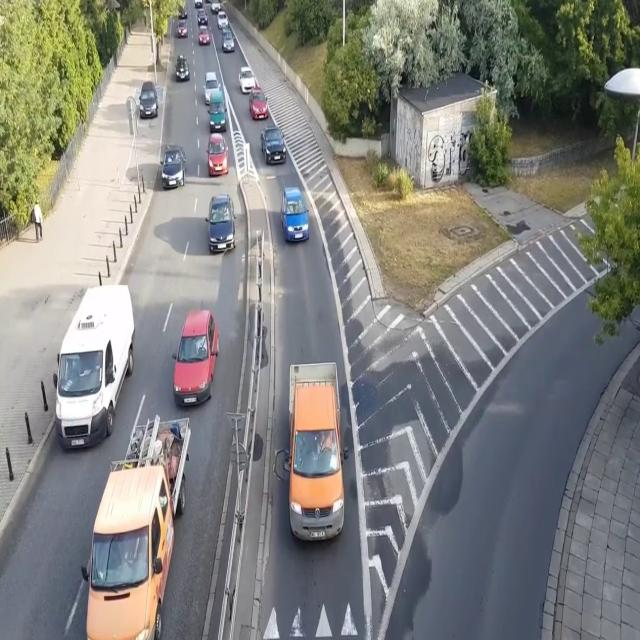car: (172, 308, 220, 409), (204, 194, 237, 252), (280, 187, 310, 244), (162, 142, 186, 188), (260, 124, 287, 164), (205, 132, 229, 176), (248, 88, 270, 120), (139, 81, 158, 118), (238, 64, 256, 94), (204, 72, 221, 100), (175, 54, 191, 82), (220, 28, 235, 55), (198, 24, 210, 46), (177, 18, 188, 38), (217, 11, 229, 29), (177, 4, 188, 20), (198, 10, 208, 24), (194, 0, 203, 8)
truck: (81, 411, 192, 640), (286, 361, 350, 545)
van: (54, 284, 136, 451), (210, 0, 222, 13)
